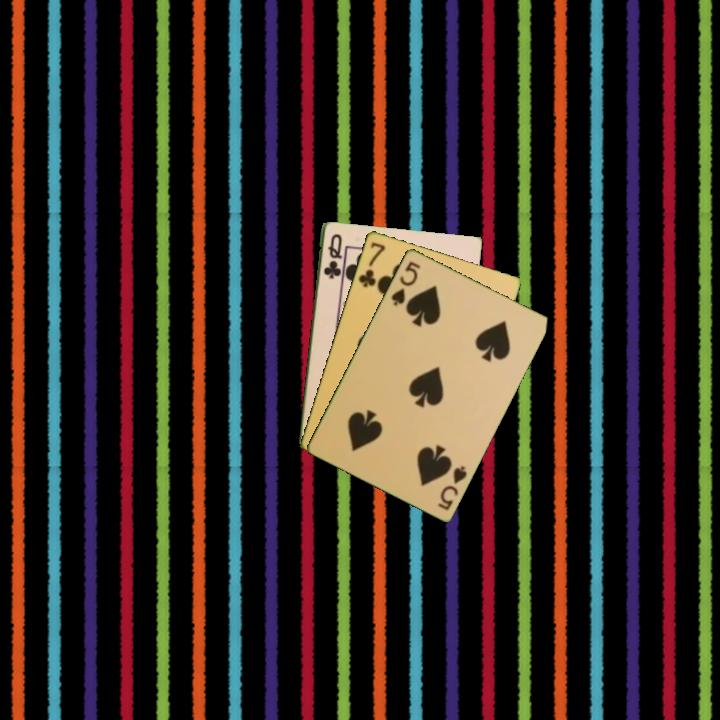5s: (387, 257, 423, 309), (434, 461, 470, 513)
7c: (355, 238, 388, 290)
Qc: (320, 230, 345, 281)
